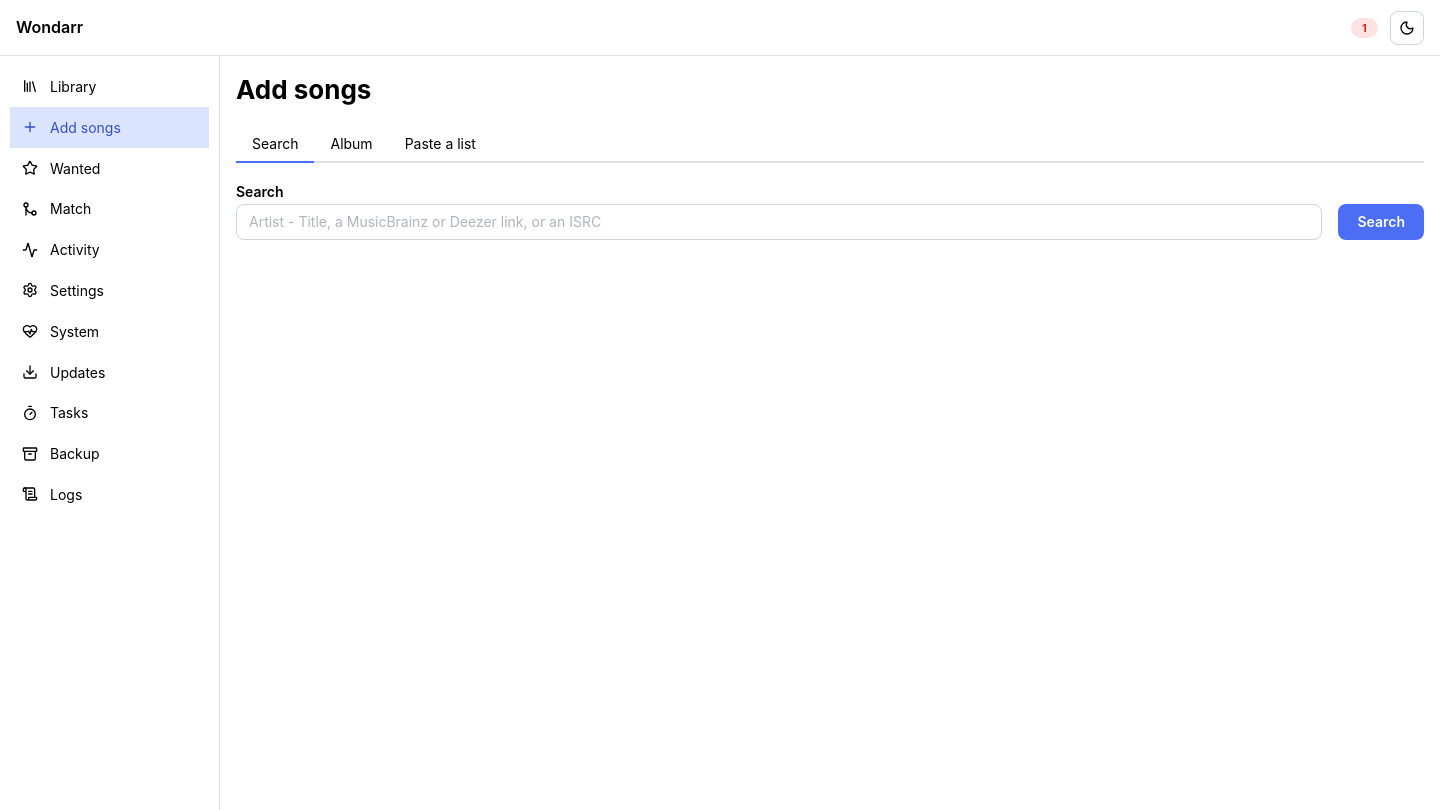
Test case: AddSongsPage › looks a term up and shows what tells the candidates apart
The image size is (1440, 810).
Type "Daft Punk - Get Lucky" into the field labelled "Search". click: [779, 222]
box: [236, 204, 1322, 240]
Then press Enter
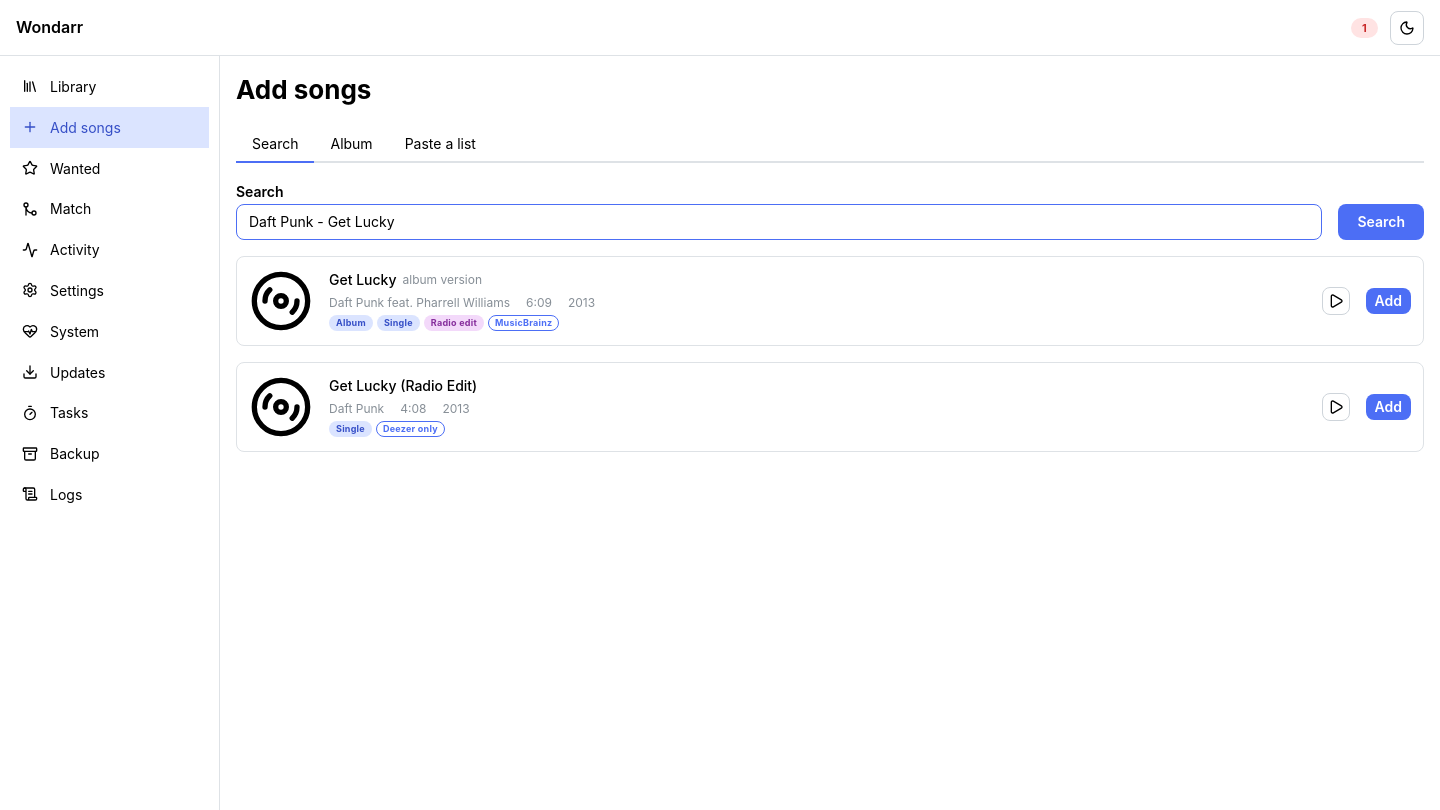
Result: the text "album version" is shown at [402, 272, 482, 289]
Result: the text "6:09" is shown at [526, 295, 552, 311]
Result: the text "MusicBrainz" is shown at [495, 316, 552, 330]
